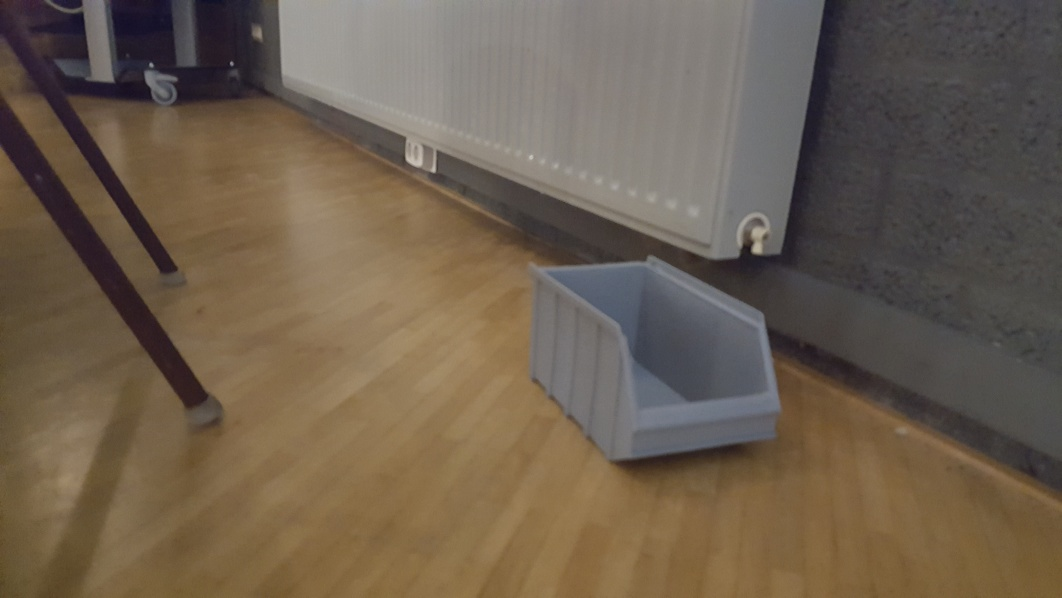tray: (524, 256, 781, 463)
